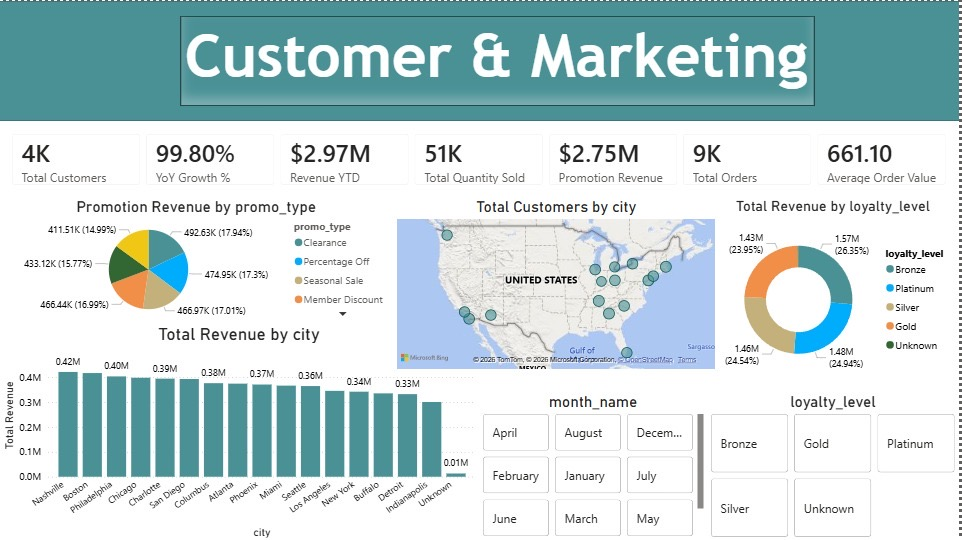

This screenshot's page, from the dashboard's own definition file:
{"tool":"powerbi","page":{"name":"Customer & Marketing","canvas":[1280,720],"ordinal":2},"visuals":[{"type":"shape","box":[0,0,1920,160],"z":0},{"type":"textbox","box":[242.5,20,845,120],"z":1000},{"type":"cardVisual","fields":{"Data":["Measures (2).Total Customers","Measures (2).YoY Growth %","Measures (2).Revenue YTD","Measures (2).Total Quantity Sold","Measures (2).Promotion Revenue","Measures (2).Total Orders","Measures (2).Average Order Value"]},"box":[0,160,1280,102.5],"z":2000},{"type":"donutChart","fields":{"Category":["gold dim_customer.loyalty_level"],"Y":["Measures (2).Total Revenue"]},"box":[944,262,336,250],"z":3000},{"type":"columnChart","fields":{"Y":["Measures (2).Total Revenue"],"Category":["gold dim_customer.city"]},"box":[0,430,640,290],"z":4000},{"type":"pieChart","fields":{"Category":["gold dim_promotion.promo_type"],"Y":["Measures (2).Promotion Revenue"]},"box":[0,262,526,168],"z":5000},{"type":"advancedSlicerVisual","fields":{"Values":["gold dim_customer.loyalty_level"]},"box":[944,522,336,198],"z":6000},{"type":"advancedSlicerVisual","fields":{"Values":["gold dim_date.month_name"]},"box":[640,522,304,198],"z":7000},{"type":"map","fields":{"Category":["gold dim_customer.city"],"Size":["Measures (2).Total Customers"]},"box":[526.2,262.3,434,233.2],"z":8000}]}

Visuals, with their boxes in screenshot pixels (x1, y1, x2, y2), scaled from the page's 1280x720 canvas onto the 962x540 screenshot:
shape: pyautogui.locateOnScreen(0, 0, 961, 120)
textbox: pyautogui.locateOnScreen(182, 15, 817, 105)
cardVisual - Measures (2).Total Customers x Measures (2).YoY Growth %: pyautogui.locateOnScreen(0, 120, 961, 197)
donutChart - gold dim_customer.loyalty_level x Measures (2).Total Revenue: pyautogui.locateOnScreen(709, 196, 961, 384)
columnChart - Measures (2).Total Revenue x gold dim_customer.city: pyautogui.locateOnScreen(0, 322, 481, 539)
pieChart - gold dim_promotion.promo_type x Measures (2).Promotion Revenue: pyautogui.locateOnScreen(0, 196, 395, 322)
advancedSlicerVisual - gold dim_customer.loyalty_level: pyautogui.locateOnScreen(709, 392, 961, 539)
advancedSlicerVisual - gold dim_date.month_name: pyautogui.locateOnScreen(481, 392, 709, 539)
map - gold dim_customer.city x Measures (2).Total Customers: pyautogui.locateOnScreen(395, 197, 722, 372)
